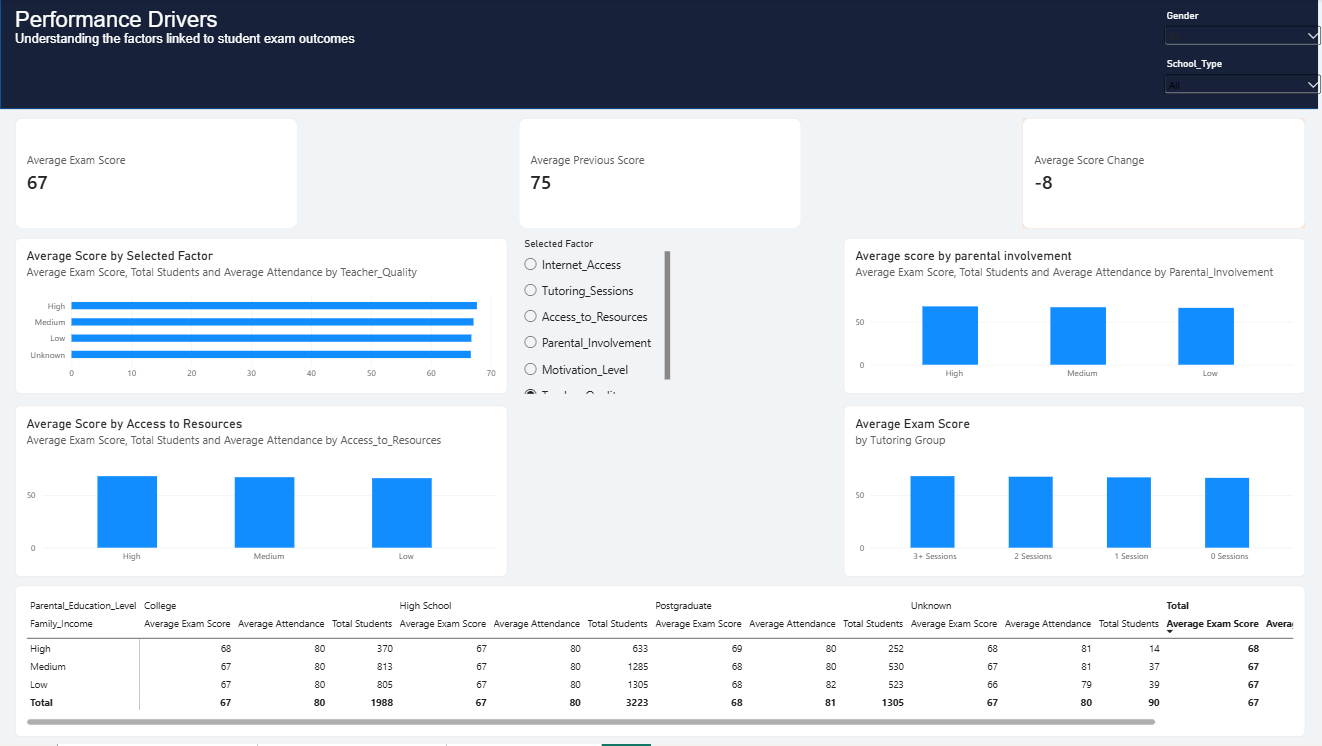

The page's visual inventory and layout, read from the dashboard file:
{"tool":"powerbi","page":{"name":"Performance Drivers","canvas":[1920,1080],"ordinal":1},"visuals":[{"type":"shape","box":[0,0,1910,160.9],"z":0},{"type":"textbox","box":[21.3,13.3,1899.3,77.1],"z":1000},{"type":"cardVisual","fields":{"Data":["StudentPerformanceFactors.Average Exam Score"]},"box":[20.9,174.5,409.7,160.9],"z":2000},{"type":"cardVisual","fields":{"Data":["StudentPerformanceFactors.Average Previous Score"]},"box":[751.9,174.5,409.7,160.9],"z":3000},{"type":"cardVisual","fields":{"Data":["StudentPerformanceFactors.Average Score Change"]},"box":[1479.9,174.5,409.7,160.9],"z":4000},{"type":"clusteredBarChart","title":"Average Score by Selected Factor","fields":{"Category":["StudentPerformanceFactors.Teacher_Quality"],"Y":["StudentPerformanceFactors.Average Exam Score"]},"box":[20.9,347.6,713.1,225.3],"z":5000},{"type":"slicer","fields":{"Values":["Selected Factor.Selected Factor"]},"box":[751.9,347.6,219.3,225.3],"z":6000},{"type":"clusteredColumnChart","title":"Average score by parental involvement","fields":{"Category":["StudentPerformanceFactors.Parental_Involvement"],"Y":["StudentPerformanceFactors.Average Exam Score"]},"box":[1221.8,347.6,668.3,225.3],"z":7000},{"type":"clusteredColumnChart","title":"Average Score by Access to Resources","fields":{"Category":["StudentPerformanceFactors.Access_to_Resources"],"Y":["StudentPerformanceFactors.Average Exam Score"]},"box":[20.9,590.8,713.1,247.6],"z":8000},{"type":"columnChart","fields":{"Category":["StudentPerformanceFactors.Tutoring Group"],"Y":["StudentPerformanceFactors.Average Exam Score"]},"box":[1221.8,590.8,668.3,247.6],"z":9000},{"type":"pivotTable","fields":{"Columns":["StudentPerformanceFactors.Parental_Education_Level"],"Rows":["StudentPerformanceFactors.Family_Income"],"Values":["StudentPerformanceFactors.Average Exam Score","StudentPerformanceFactors.Average Attendance","StudentPerformanceFactors.Total Students"]},"box":[22.4,850.3,1867.8,219.3],"z":10000},{"type":"slicer","fields":{"Values":["StudentPerformanceFactors.Gender"]},"box":[1681.8,16.1,237.8,52.4],"z":11000},{"type":"slicer","fields":{"Values":["StudentPerformanceFactors.School_Type"]},"box":[1681.8,86,237.8,52.4],"z":12000}]}

Visuals, with their boxes in screenshot pixels (x1, y1, x2, y2), scaled from the page's 1920x1080 canvas onto the 1322x746 screenshot:
shape: <bbox>0, 0, 1315, 111</bbox>
textbox: <bbox>15, 9, 1321, 62</bbox>
cardVisual - StudentPerformanceFactors.Average Exam Score: <bbox>14, 121, 296, 232</bbox>
cardVisual - StudentPerformanceFactors.Average Previous Score: <bbox>518, 121, 800, 232</bbox>
cardVisual - StudentPerformanceFactors.Average Score Change: <bbox>1019, 121, 1301, 232</bbox>
"Average Score by Selected Factor" clusteredBarChart: <bbox>14, 240, 505, 396</bbox>
slicer - Selected Factor.Selected Factor: <bbox>518, 240, 669, 396</bbox>
"Average score by parental involvement" clusteredColumnChart: <bbox>841, 240, 1301, 396</bbox>
"Average Score by Access to Resources" clusteredColumnChart: <bbox>14, 408, 505, 579</bbox>
columnChart - StudentPerformanceFactors.Tutoring Group x StudentPerformanceFactors.Average Exam Score: <bbox>841, 408, 1301, 579</bbox>
pivotTable - StudentPerformanceFactors.Parental_Education_Level x StudentPerformanceFactors.Family_Income: <bbox>15, 587, 1301, 739</bbox>
slicer - StudentPerformanceFactors.Gender: <bbox>1158, 11, 1321, 47</bbox>
slicer - StudentPerformanceFactors.School_Type: <bbox>1158, 59, 1321, 96</bbox>
